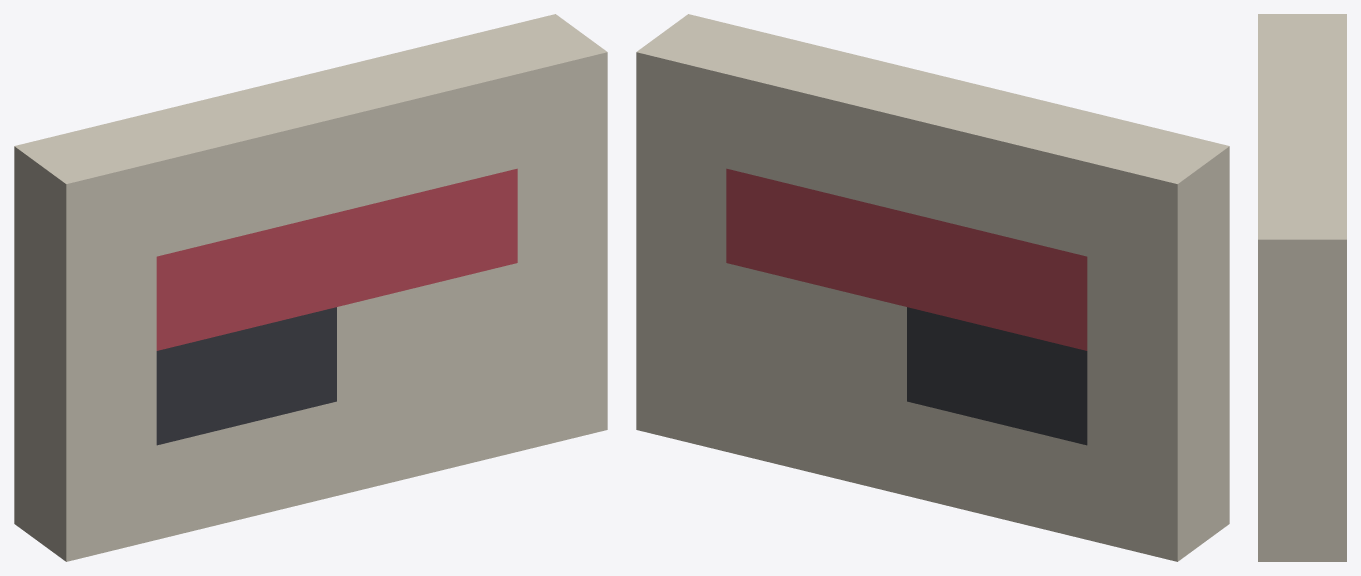
Rendered from tickets.glb.
3 views of the same model, side by side, from view 1: azimuth 30°, elevation 25°; view 2: azimuth 150°, elevation 25°; view 3: azimuth 270°, elevation 25° (orthographic). The views are drawn at different scales.
Parts seen in each view (by area): view 1: main; view 2: main; view 3: main.
Boxes of the visible parts, x1,y1,x2,y2 form: main: [14, 14, 607, 561]; main: [636, 14, 1229, 561]; main: [1258, 14, 1346, 561].
Size of the model in its own units: 0.375 by 0.25 by 0.0625.
